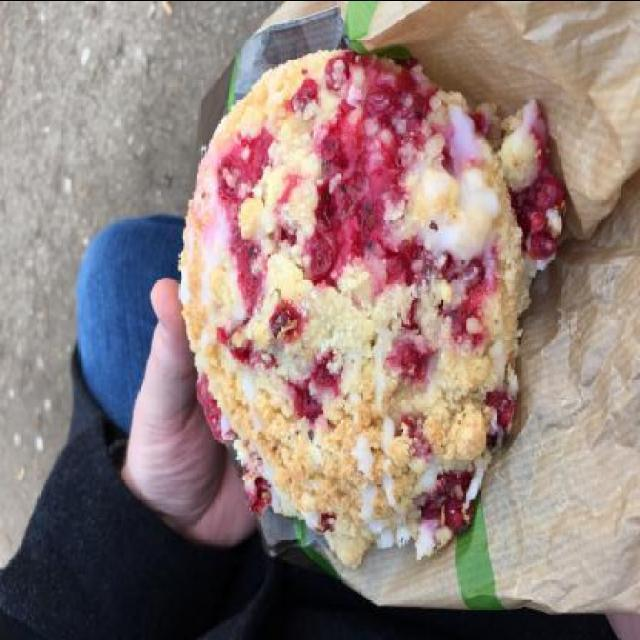Muffin: (173, 42, 570, 570)
